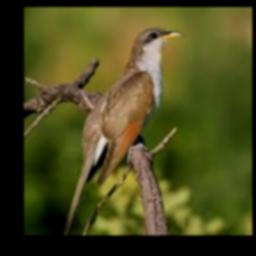Cuckoo: (62, 28, 184, 235)
